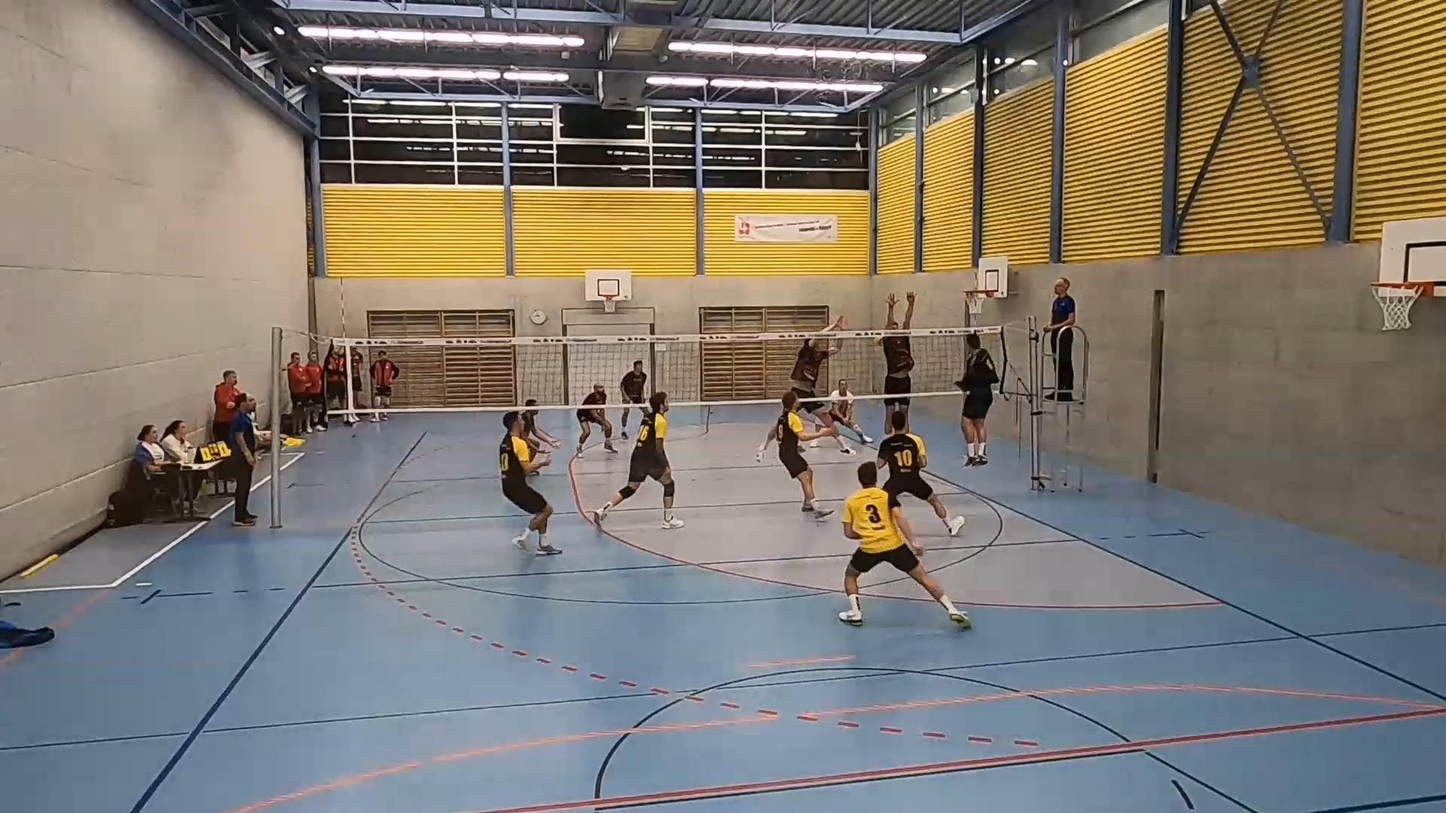Attack: (945, 328, 1007, 470)
Block: (875, 287, 920, 460)
Player: (838, 462, 971, 627), (593, 391, 684, 528), (878, 412, 965, 535), (764, 390, 837, 519), (499, 412, 560, 555), (790, 339, 854, 454), (576, 383, 615, 456), (828, 379, 871, 443), (620, 360, 647, 440), (521, 399, 560, 451), (520, 409, 560, 454)
